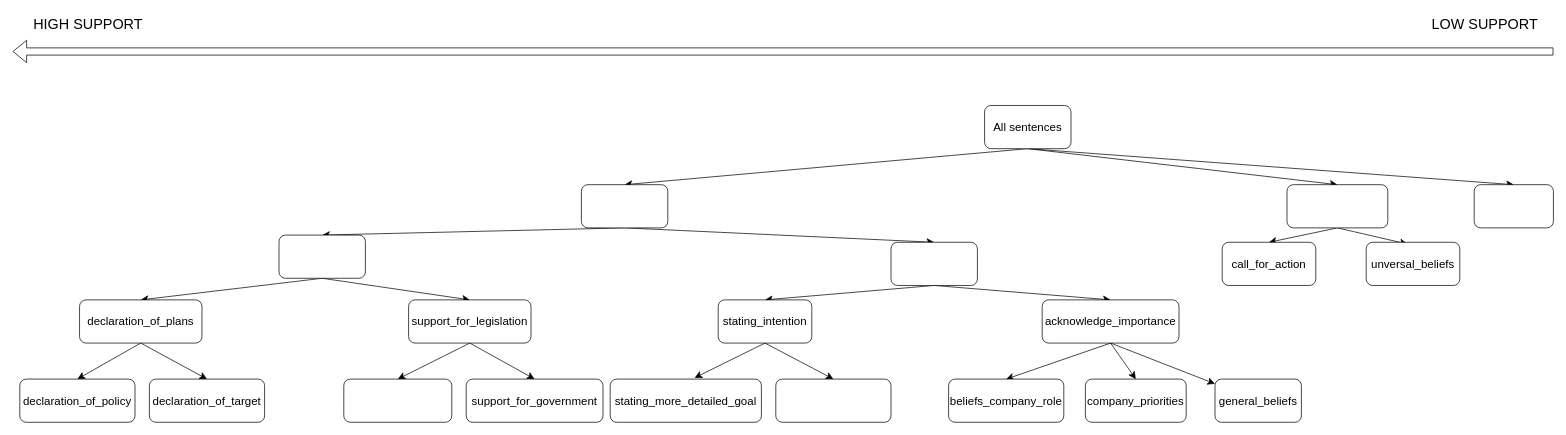
The diagram is 1566 pixels wide and 435 high, and some of its shapes have lost their labels. The shapes that lost their labels are listed below. From the top down, each one's centre as x and y in pixels, then its label:
At (x=624, y=206): "relevant".
At (x=1337, y=206): "relevant_general".
At (x=1513, y=206): "not_relevant".
At (x=321, y=256): "specific_stance".
At (x=933, y=263): "general_stance".
At (x=397, y=400): "support_for_policy".
At (x=833, y=400): "stating_general_goal".
